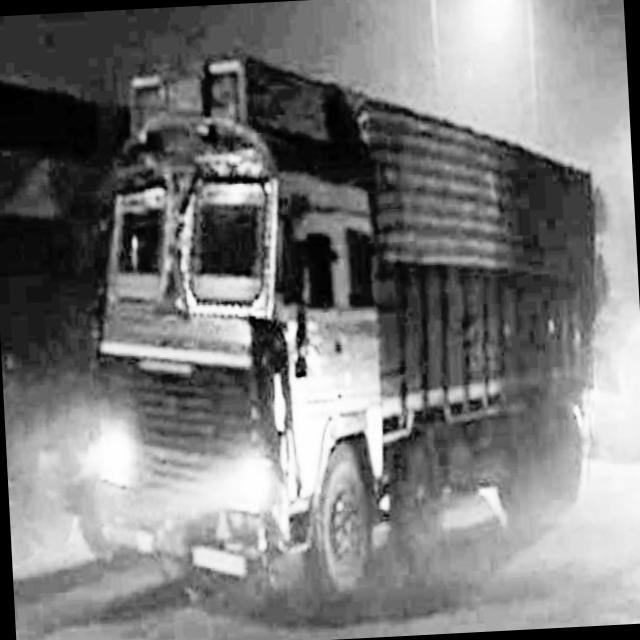Truck: (50, 33, 624, 624)
